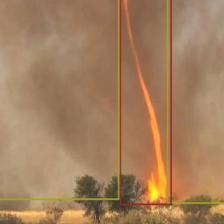fire: (119, 0, 171, 204)
smoke: (0, 0, 119, 199), (166, 0, 224, 203)
